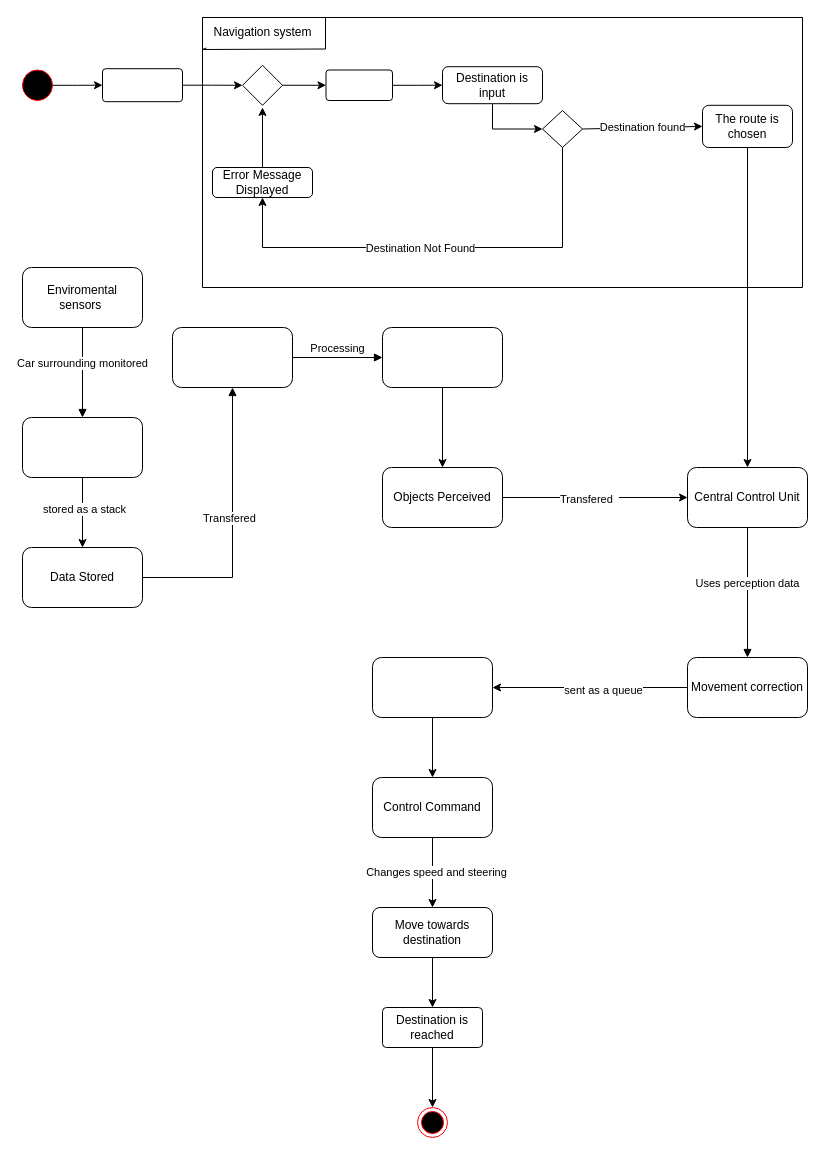
Image size: 825x1155. Some labels were removed from this diagram. Here are the shapes that lost their labels. From the top down, the centre of each, then its label:
the point at 142,85: Car is turned on
the point at 358,84: GPS
the point at 232,357: Perception Module
the point at 442,357: Processed Data
the point at 82,447: Data Acquired
the point at 432,687: Car interface
